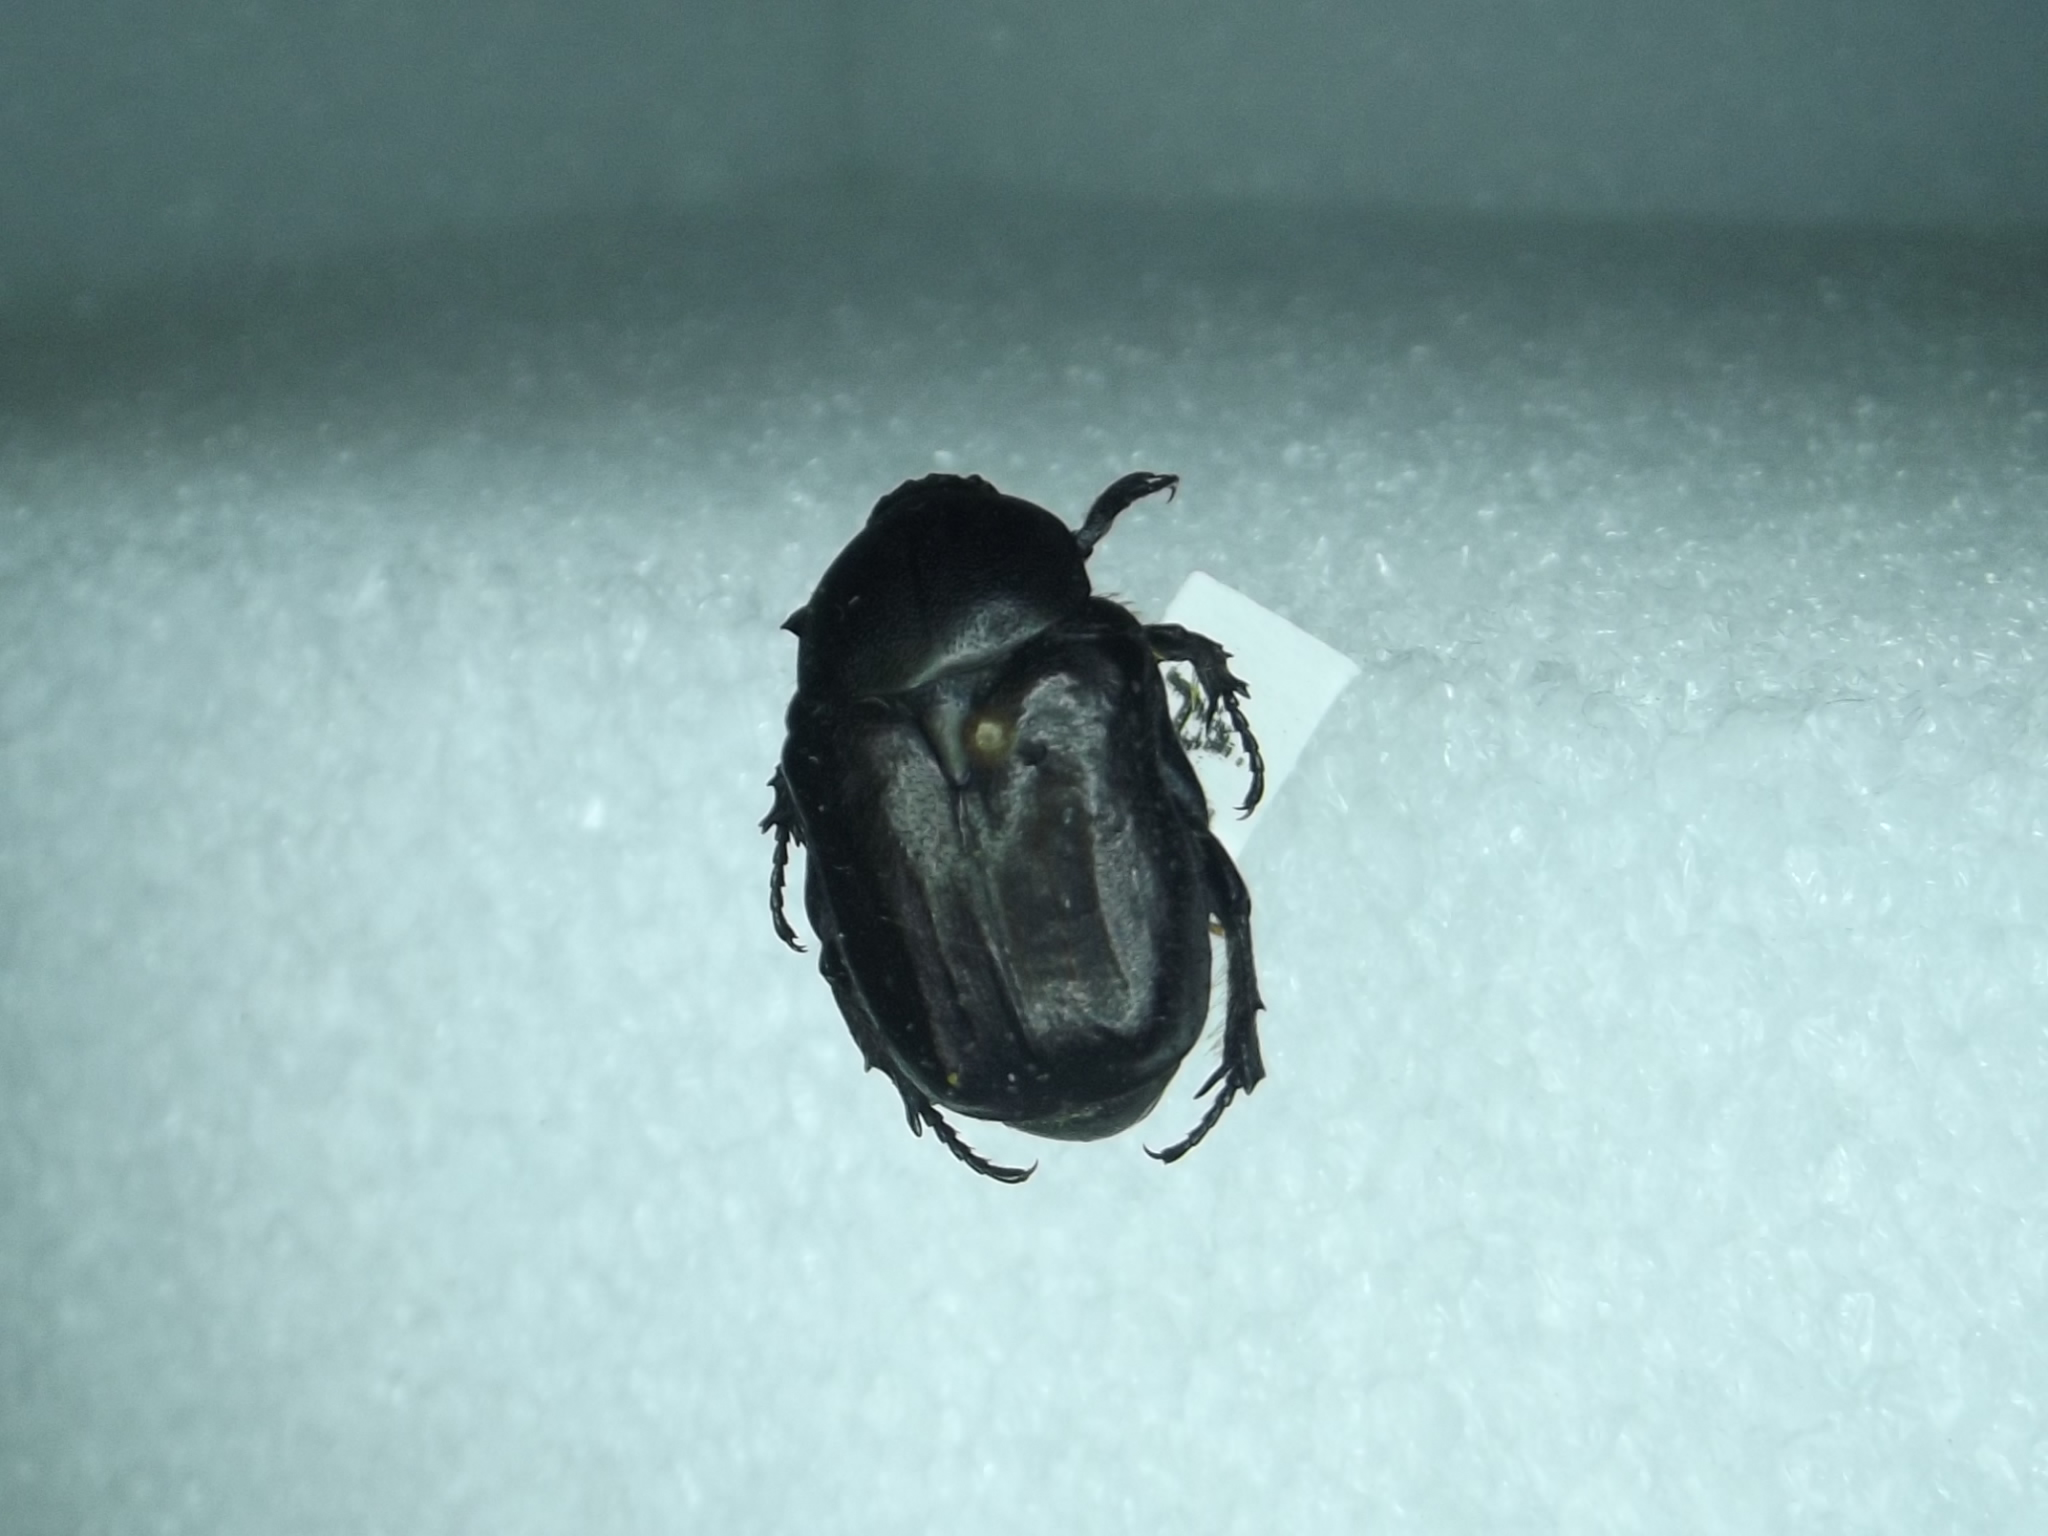Protaetia_vidua: (747, 426, 1290, 1217)
